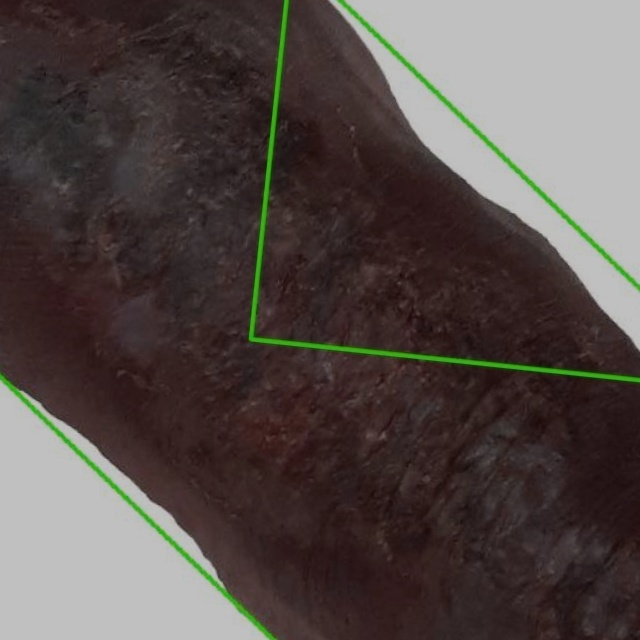Contact Dermatitis: (0, 0, 639, 639), (250, 0, 639, 380)
